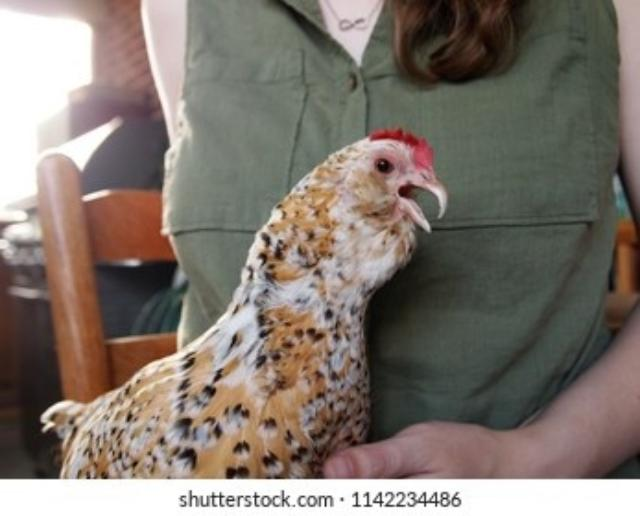Chicken: (42, 127, 449, 479)
